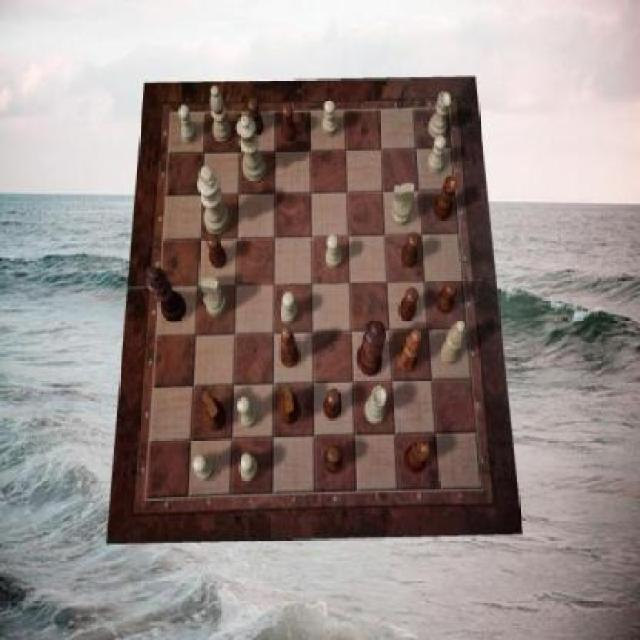bishop: (397, 329, 421, 372), (278, 328, 300, 368)
black-bishop: (146, 266, 187, 322)
black-king: (203, 391, 228, 431), (278, 383, 300, 425)
black-knight: (435, 282, 458, 316), (208, 232, 228, 268), (402, 232, 421, 268), (400, 288, 420, 322), (248, 97, 264, 137), (282, 103, 298, 142), (325, 388, 342, 420), (323, 446, 342, 474)
black-pawn: (356, 319, 386, 376)
black-queen: (434, 175, 458, 221), (404, 439, 430, 473)
black-rook: (438, 318, 466, 364), (210, 85, 232, 142)
white-bishop: (198, 164, 231, 236)
white-king: (198, 277, 228, 317), (390, 183, 414, 227)
white-knight: (426, 135, 446, 174), (237, 397, 258, 429), (179, 106, 196, 145), (326, 234, 343, 270), (280, 292, 298, 325), (322, 99, 338, 136), (193, 454, 214, 480), (238, 454, 258, 481)
white-pawn: (237, 116, 267, 182)
white-queen: (428, 92, 450, 140), (364, 386, 388, 425)
